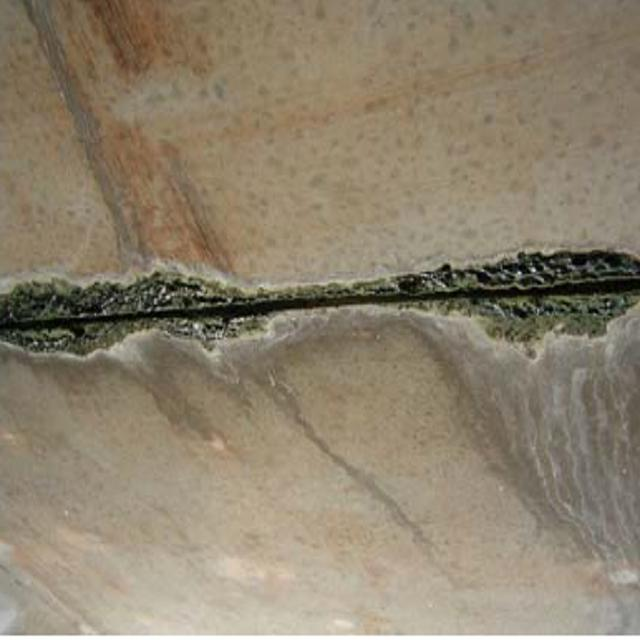leakage: (5, 252, 640, 367)
